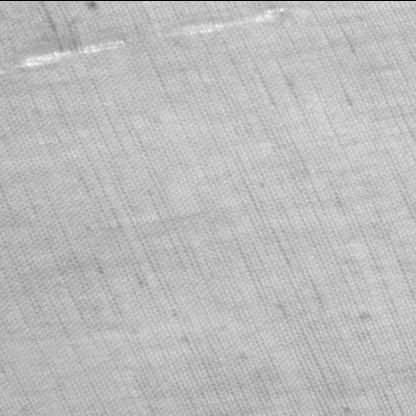thread error: (2, 1, 320, 76)
